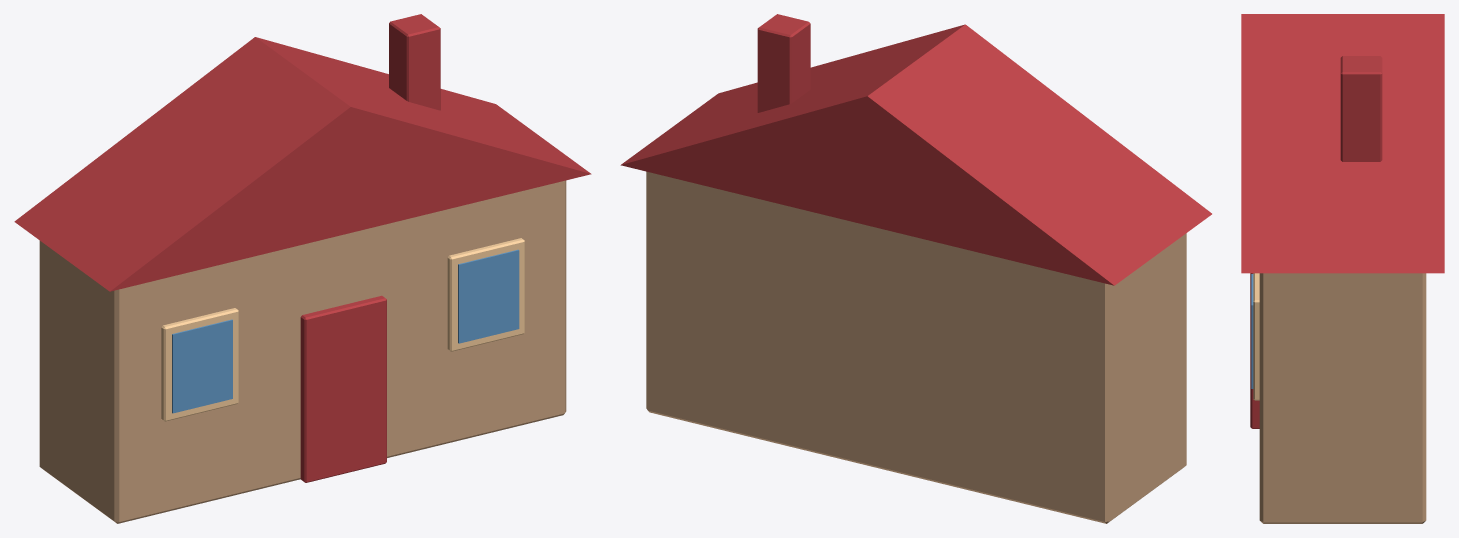
File: house_shallow.glb
The picture shows the model from 3 angles, left to right: view 1: azimuth 30°, elevation 25°; view 2: azimuth 150°, elevation 25°; view 3: azimuth 270°, elevation 25°; orthographic projection. The views are drawn at different scales.
Visible parts, largest first — view 1: wall, house_roof, house_door, wall_glass1, wall_glass0, house_chimney, wall_frame0, wall_frame1; view 2: wall, house_roof, house_chimney; view 3: house_roof, wall, house_chimney, wall_frame1, house_door, wall_glass1.
Boxes of the visible parts, bbox=[...] form: wall: bbox=[39, 180, 566, 523]; house_roof: bbox=[14, 37, 591, 291]; house_door: bbox=[300, 295, 386, 482]; wall_glass1: bbox=[458, 249, 519, 343]; wall_glass0: bbox=[172, 319, 232, 413]; house_chimney: bbox=[389, 14, 440, 110]; wall_frame0: bbox=[161, 308, 238, 421]; wall_frame1: bbox=[447, 238, 524, 351]; wall: bbox=[646, 171, 1186, 523]; house_roof: bbox=[620, 24, 1211, 285]; house_chimney: bbox=[757, 14, 810, 112]; house_roof: bbox=[1241, 14, 1444, 273]; wall: bbox=[1259, 273, 1426, 523]; house_chimney: bbox=[1340, 56, 1382, 161]; wall_frame1: bbox=[1253, 273, 1259, 400]; house_door: bbox=[1250, 273, 1259, 428]; wall_glass1: bbox=[1251, 274, 1253, 388].
Bounding box in the file's own units: 6.4 × 4.85 × 2.2.
